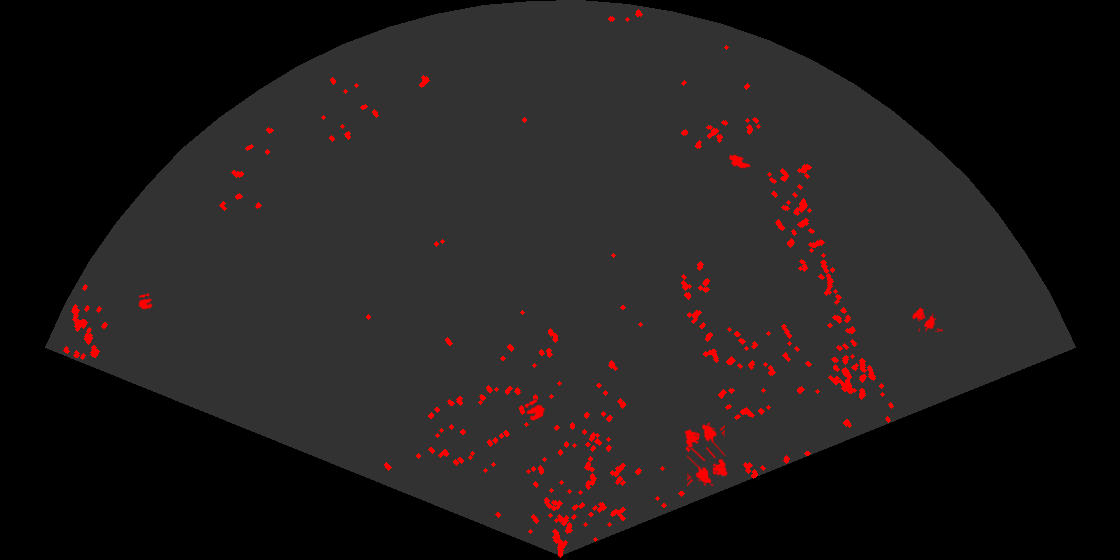AUV: (727, 153, 752, 170)
ball: (523, 398, 547, 422), (137, 292, 154, 311)
cage: (687, 448, 729, 488), (683, 421, 725, 458), (910, 306, 943, 332)
